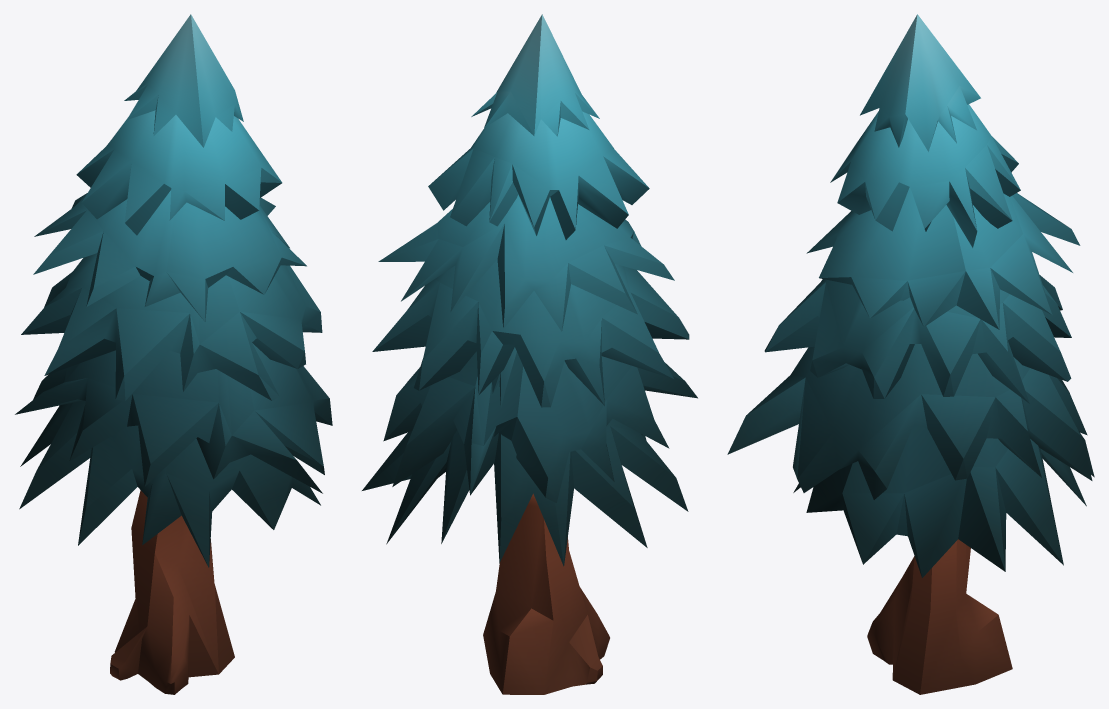
The model's file is Tree_C_2.fbx.
The picture shows the model from 3 angles, left to right: view 1: azimuth 30°, elevation 25°; view 2: azimuth 150°, elevation 25°; view 3: azimuth 270°, elevation 25°; orthographic projection. The views are drawn at different scales.
Parts seen in each view (by area): view 1: Tree_C_2; view 2: Tree_C_2; view 3: Tree_C_2.
Part boxes in pixels (box(x1,y1,x2,y2)): Tree_C_2: box(15, 14, 332, 694); Tree_C_2: box(362, 14, 697, 694); Tree_C_2: box(727, 14, 1094, 694).
Bounding box in the file's own units: 122 × 273 × 138.
